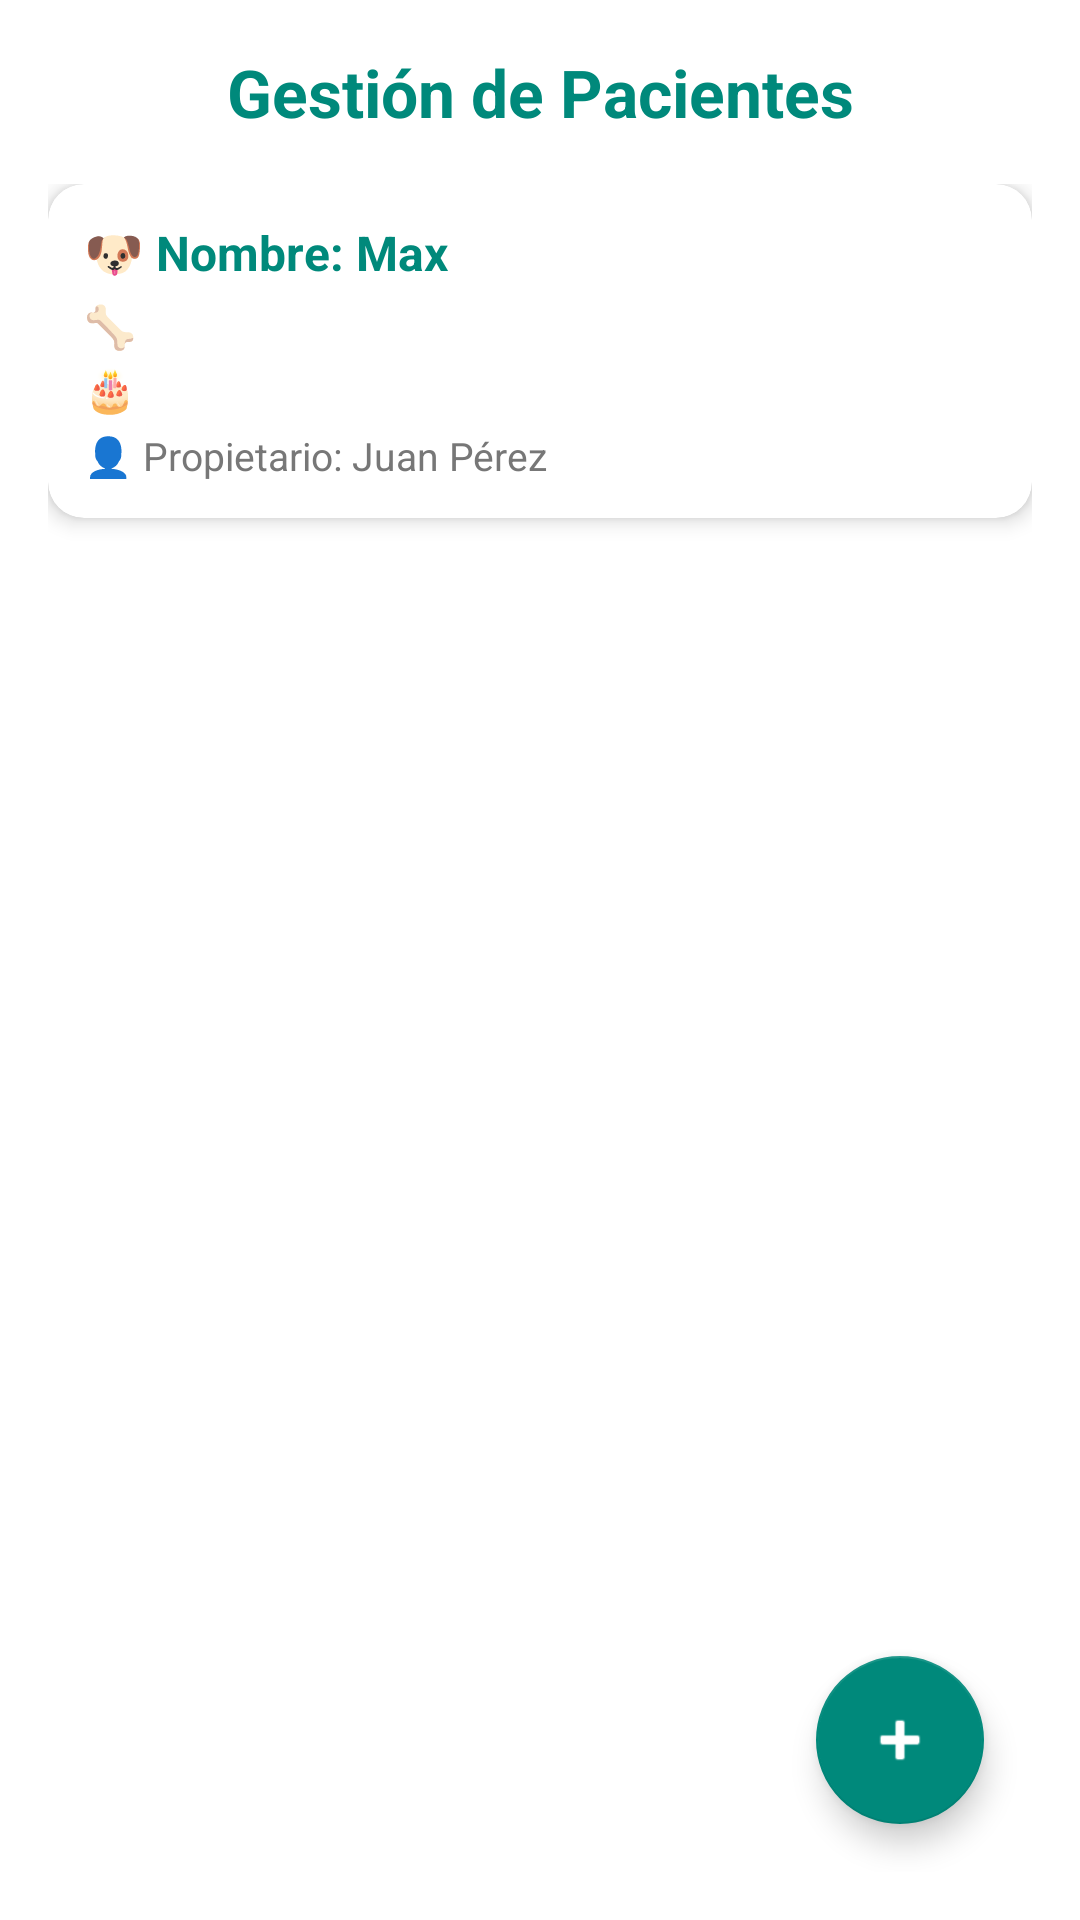

Screen size 1080×1920. Icon name, then its center in pixels as (x,y):
Registrar nuevo paciente: (900,1740)
